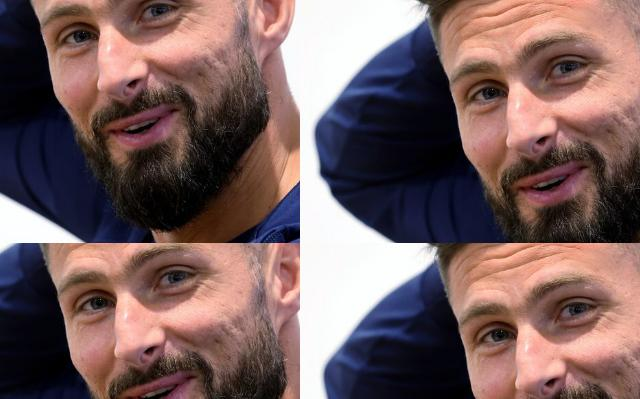crows_feet: (56, 292, 82, 334), (598, 300, 620, 332), (366, 10, 389, 38), (489, 24, 503, 42)
forehead: (494, 243, 536, 270), (458, 255, 486, 288), (545, 243, 585, 263)
frown_line: (435, 0, 456, 11)
gummy_smile: (19, 375, 63, 399), (388, 52, 412, 82), (462, 54, 483, 84)
